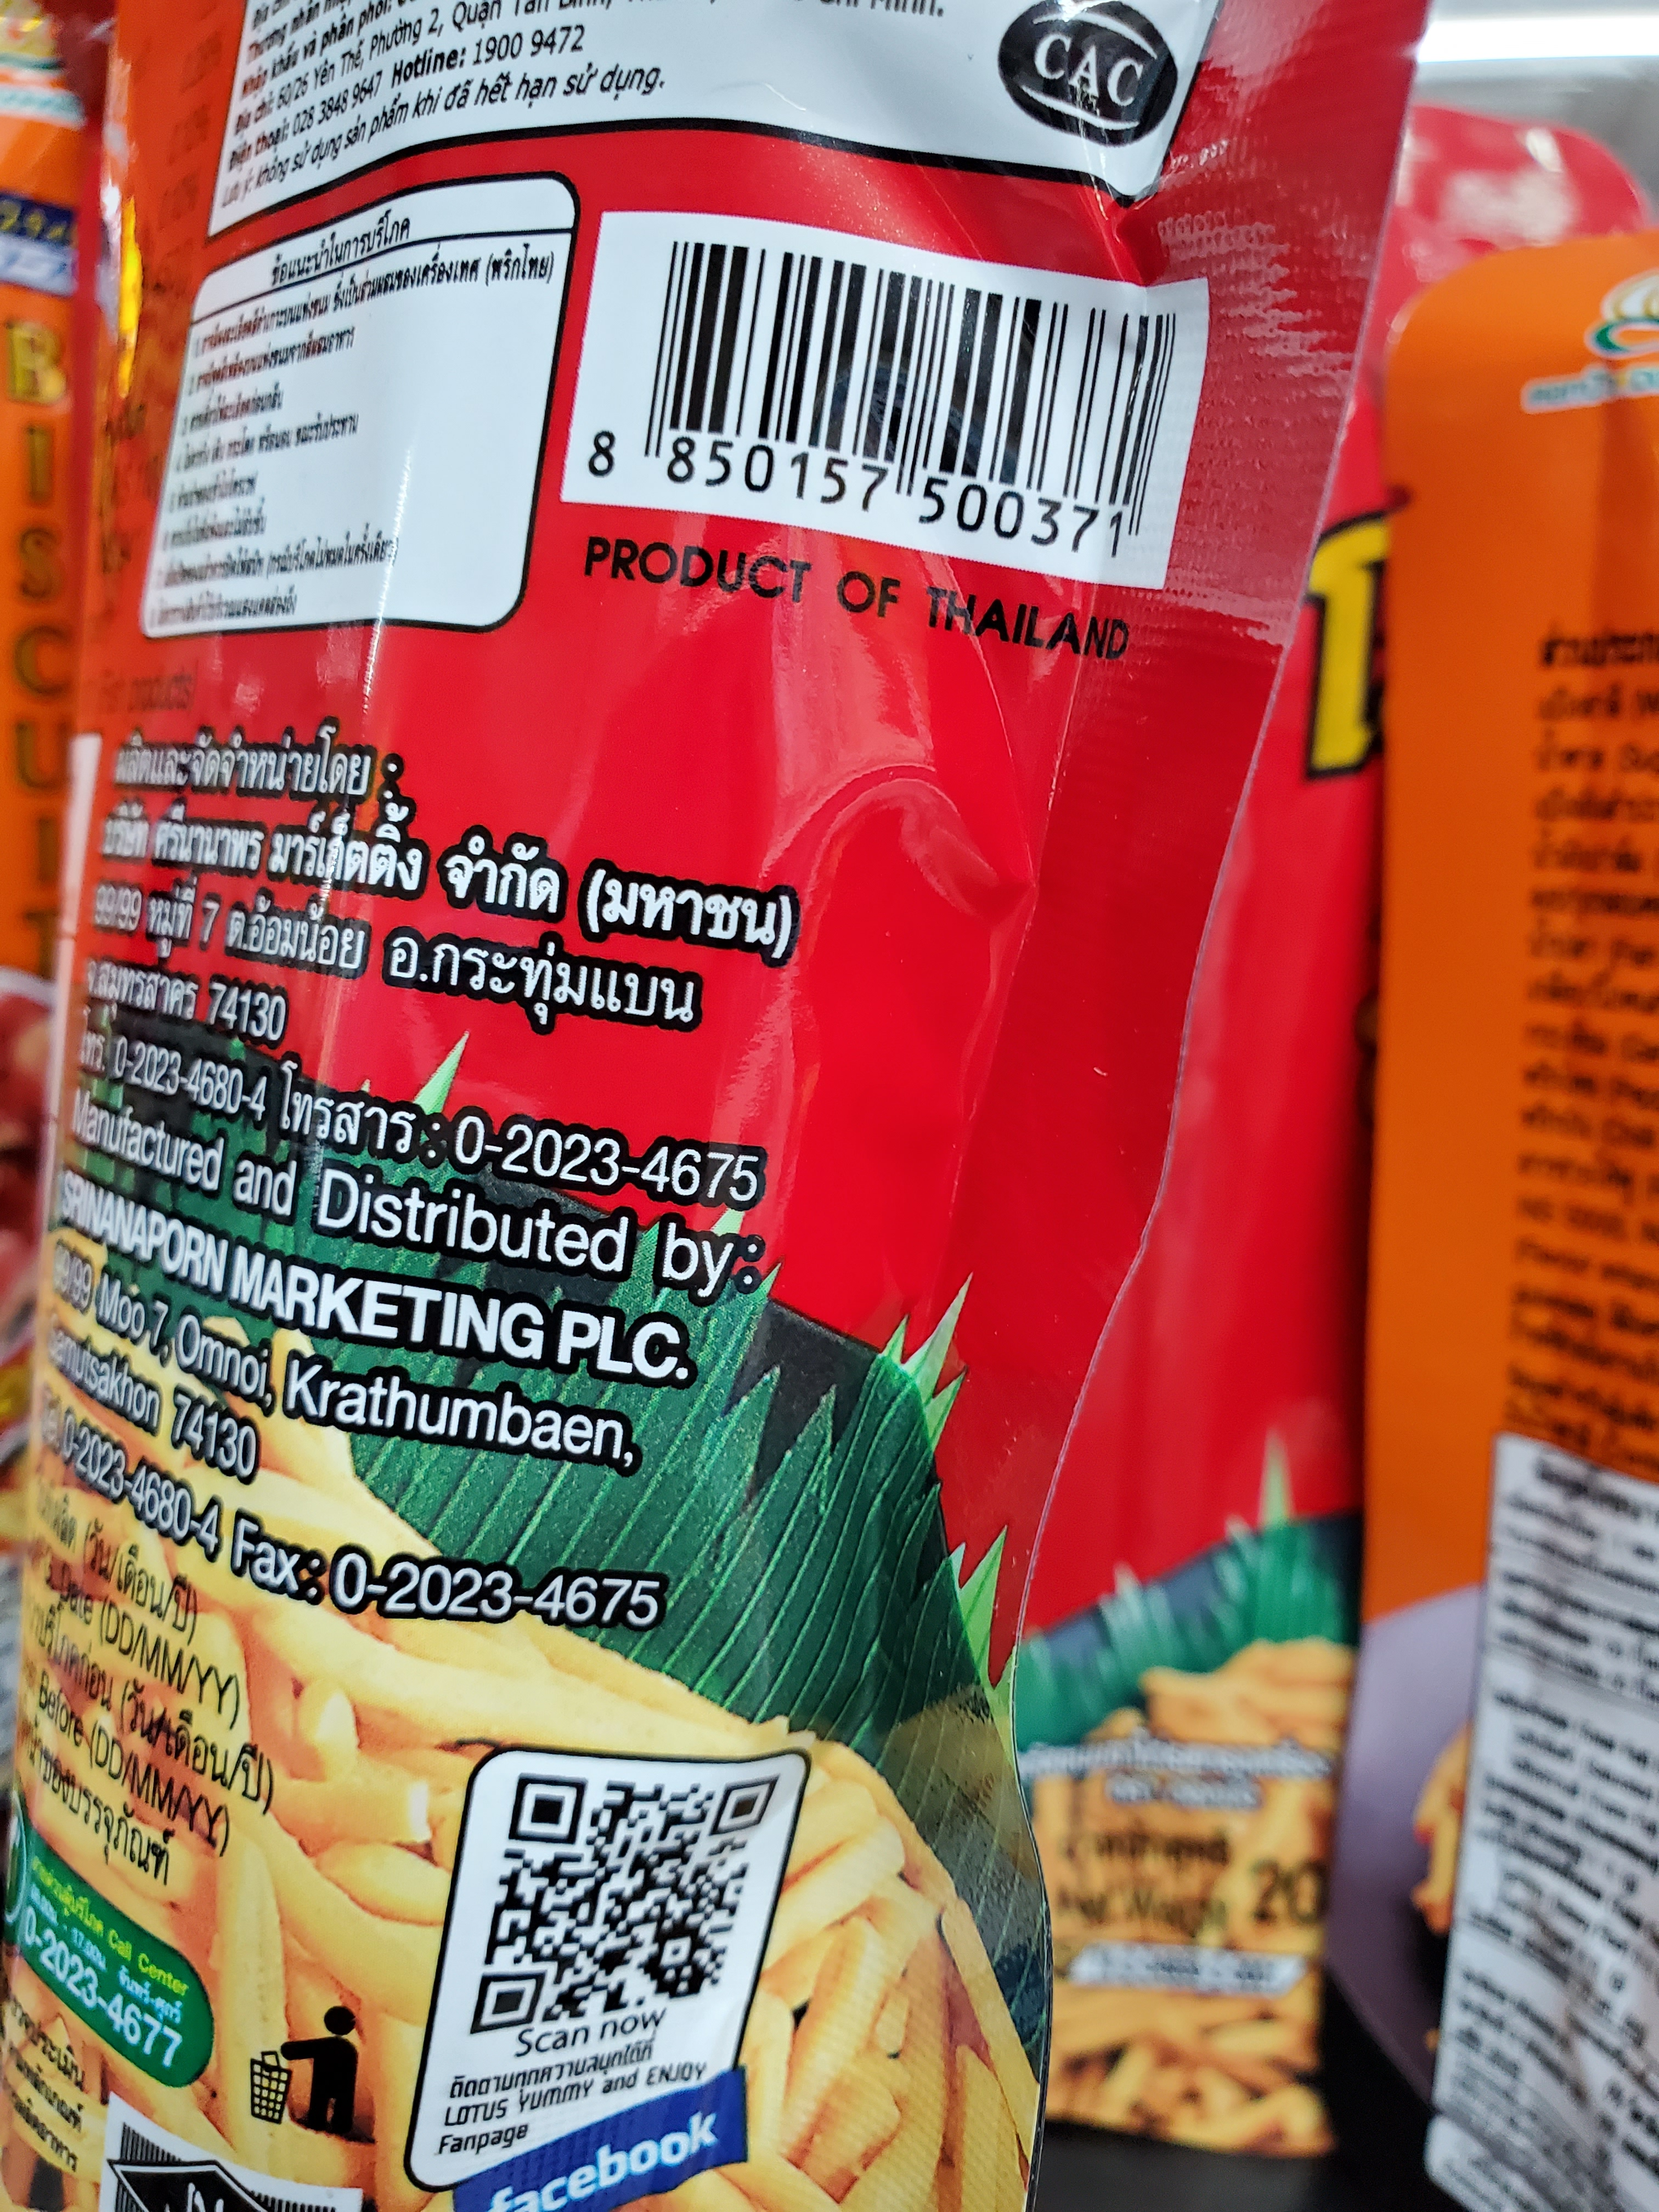barcode: (570, 223, 1192, 582)
qr code: (479, 1757, 782, 2045)
